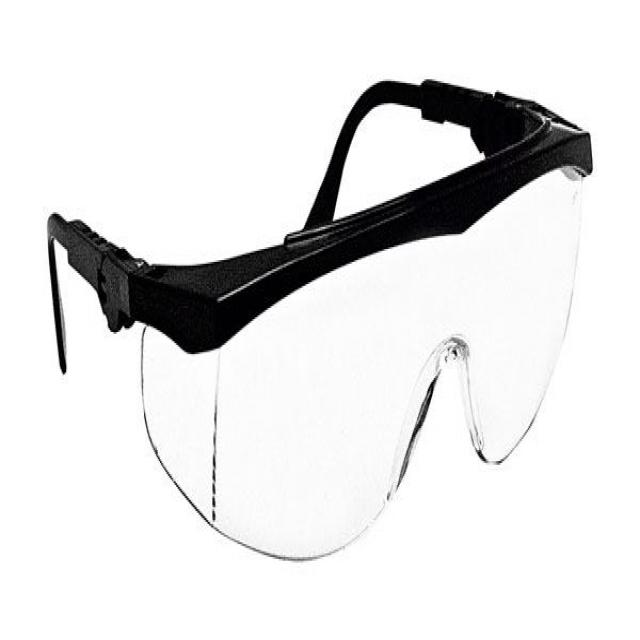Protective Glasses: (6, 19, 630, 607)
